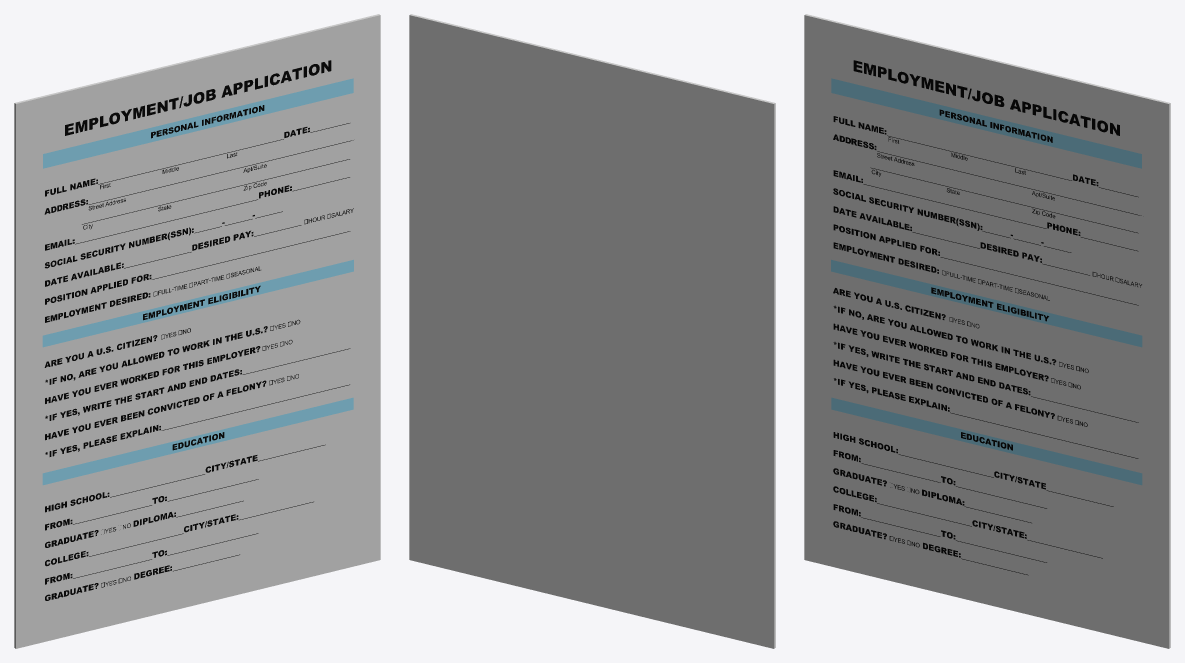
The model's file is JOB.fbx.
3 renders of one model, left to right at view 1: azimuth 30°, elevation 25°; view 2: azimuth 150°, elevation 25°; view 3: azimuth 330°, elevation 25°, orthographic.
Parts seen in each view (by area): view 1: Plane; view 2: Plane; view 3: Plane.
Part boxes in pixels (x1=…): Plane: x1=14, y1=14, x2=380, y2=648; Plane: x1=409, y1=14, x2=775, y2=648; Plane: x1=804, y1=14, x2=1170, y2=648.
Size of the model in its own units: 21 by 30 by 0.152.
1 material, 1 textured.
